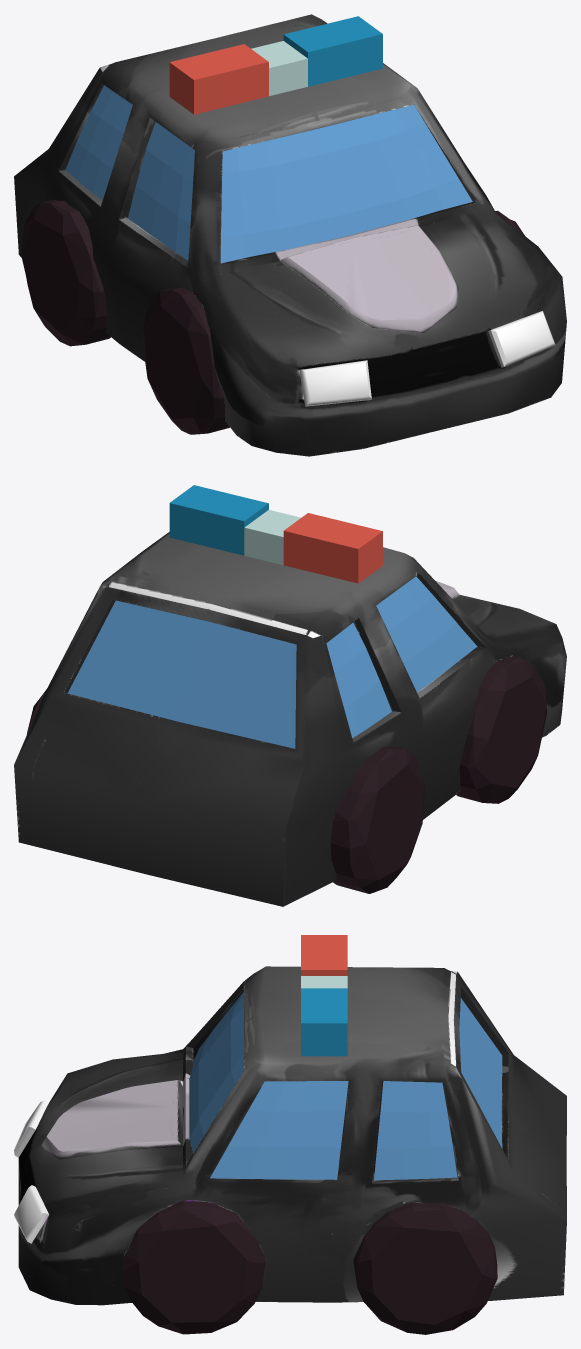
Rendered from policecar_replacement.fbx.
The picture shows the model from 3 angles, top to bottom: view 1: azimuth 30°, elevation 25°; view 2: azimuth 150°, elevation 25°; view 3: azimuth 270°, elevation 25°; orthographic projection. The views are drawn at different scales.
Parts seen in each view (by area): view 1: purplecarrpro_7.001, Cube; view 2: purplecarrpro_7.001, Cube; view 3: purplecarrpro_7.001, Cube.
Boxes of the visible parts, x1,y1,x2,y2 form: purplecarrpro_7.001: (14, 14, 566, 456); Cube: (169, 16, 382, 114); purplecarrpro_7.001: (14, 532, 566, 906); Cube: (169, 485, 382, 583); purplecarrpro_7.001: (14, 966, 566, 1334); Cube: (301, 935, 347, 1056).
Size of the model in its own units: 217 by 176 by 315.
